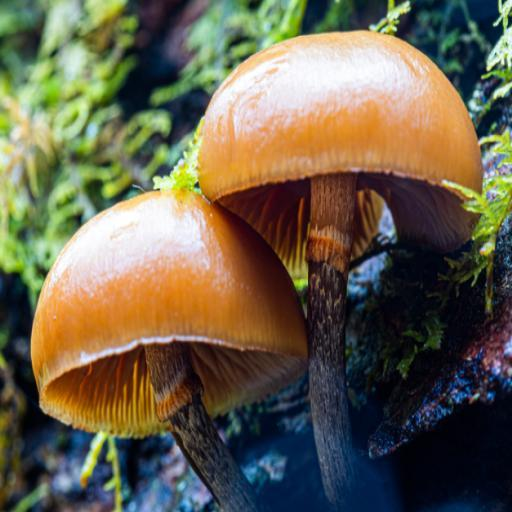mushroom: (28, 28, 487, 461)
